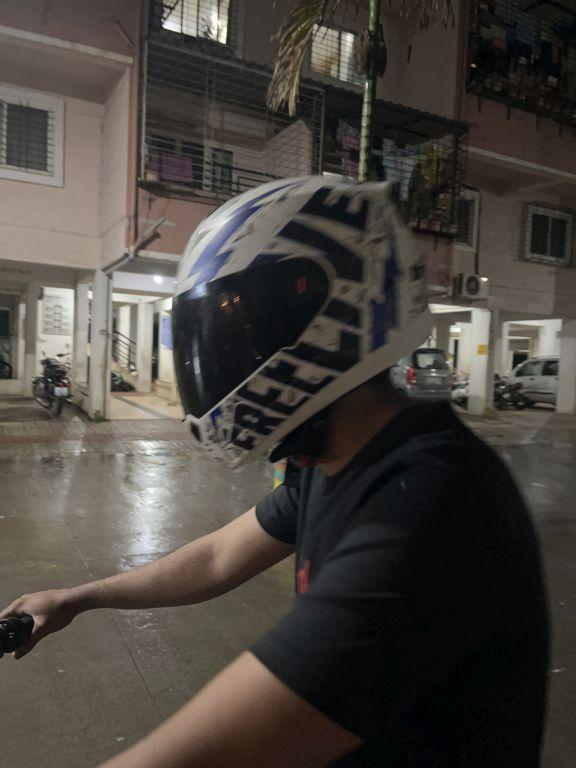helmet: (150, 165, 445, 478)
